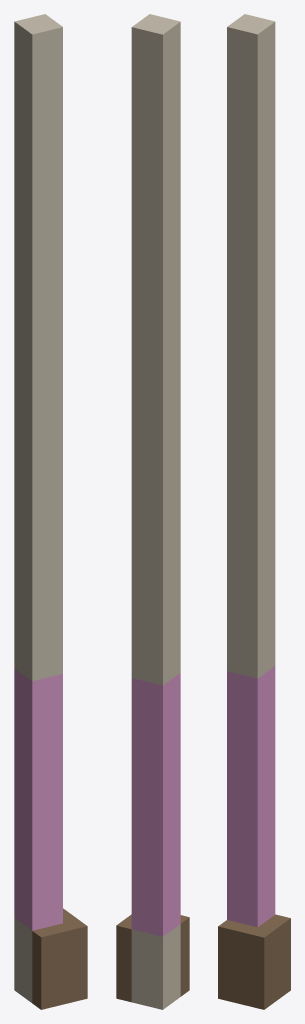
File: Mesh_WallBaseboard2Colors_H6.fbx
The picture shows the model from 3 angles, left to right: view 1: azimuth 30°, elevation 25°; view 2: azimuth 150°, elevation 25°; view 3: azimuth 330°, elevation 25°; orthographic projection.
Visible parts, largest first — view 1: Mesh_WallBaseboard2Colors_H6; view 2: Mesh_WallBaseboard2Colors_H6; view 3: Mesh_WallBaseboard2Colors_H6.
Part boxes in pixels (x1=…): Mesh_WallBaseboard2Colors_H6: x1=14, y1=14, x2=87, y2=1009; Mesh_WallBaseboard2Colors_H6: x1=116, y1=14, x2=189, y2=1009; Mesh_WallBaseboard2Colors_H6: x1=218, y1=14, x2=290, y2=1009.
Bounding box in the file's own units: 0.15 × 3 × 0.15.
